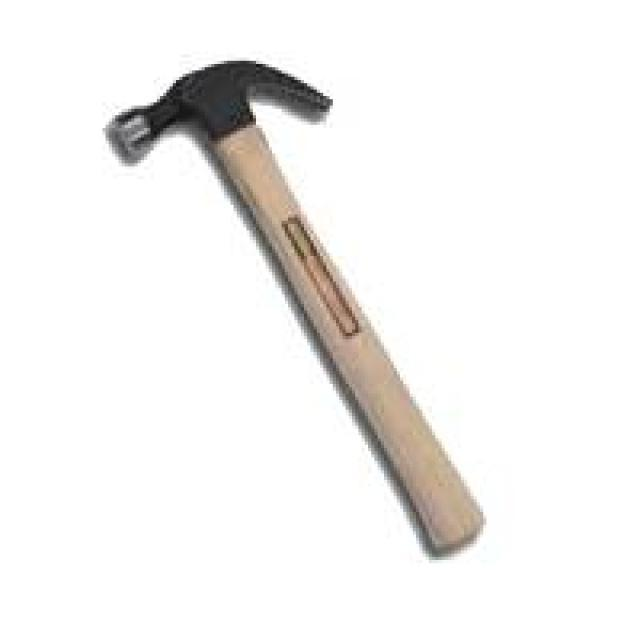hammer: (100, 56, 493, 560)
